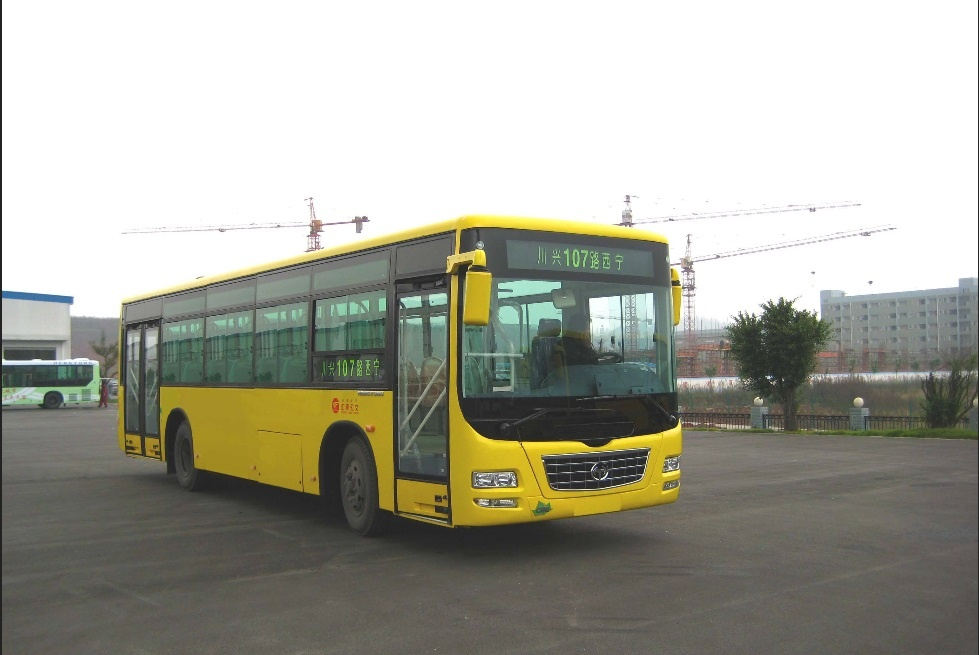bus: (107, 209, 691, 556)
